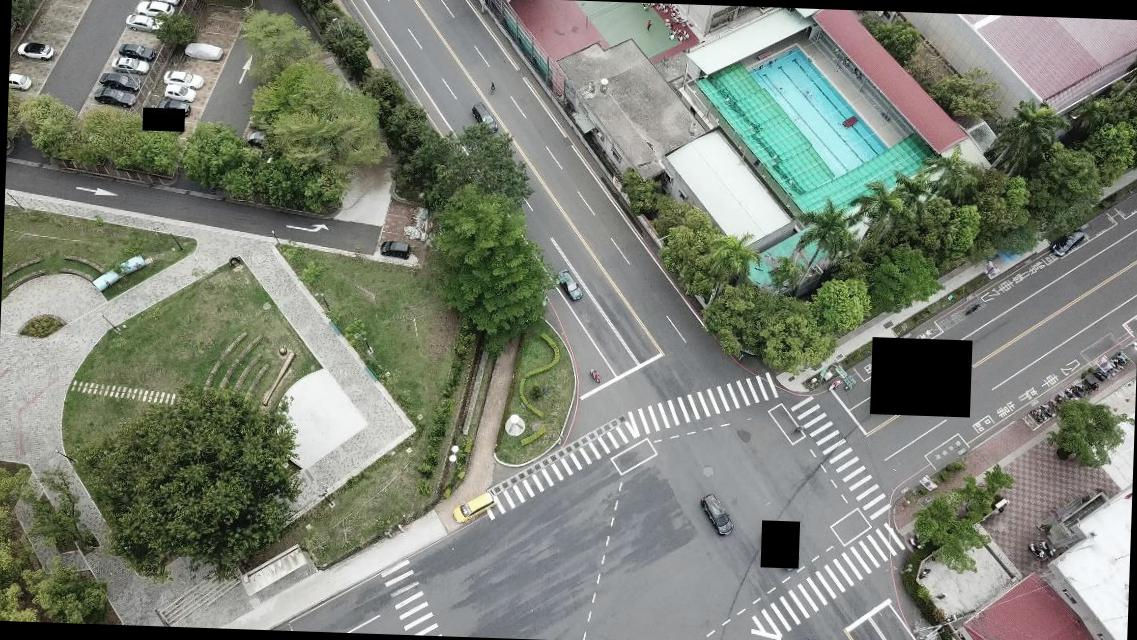vehicle: (698, 493, 734, 536), (452, 490, 494, 522), (1050, 225, 1086, 258), (468, 100, 498, 134), (554, 268, 582, 302), (91, 86, 136, 107), (96, 70, 140, 90), (134, 0, 176, 20), (122, 13, 166, 32), (109, 55, 150, 74), (14, 40, 52, 60), (162, 70, 203, 88), (118, 41, 155, 60), (162, 83, 195, 102), (157, 98, 190, 116), (378, 240, 410, 258), (8, 72, 34, 91), (244, 128, 268, 146), (142, 0, 181, 6)
